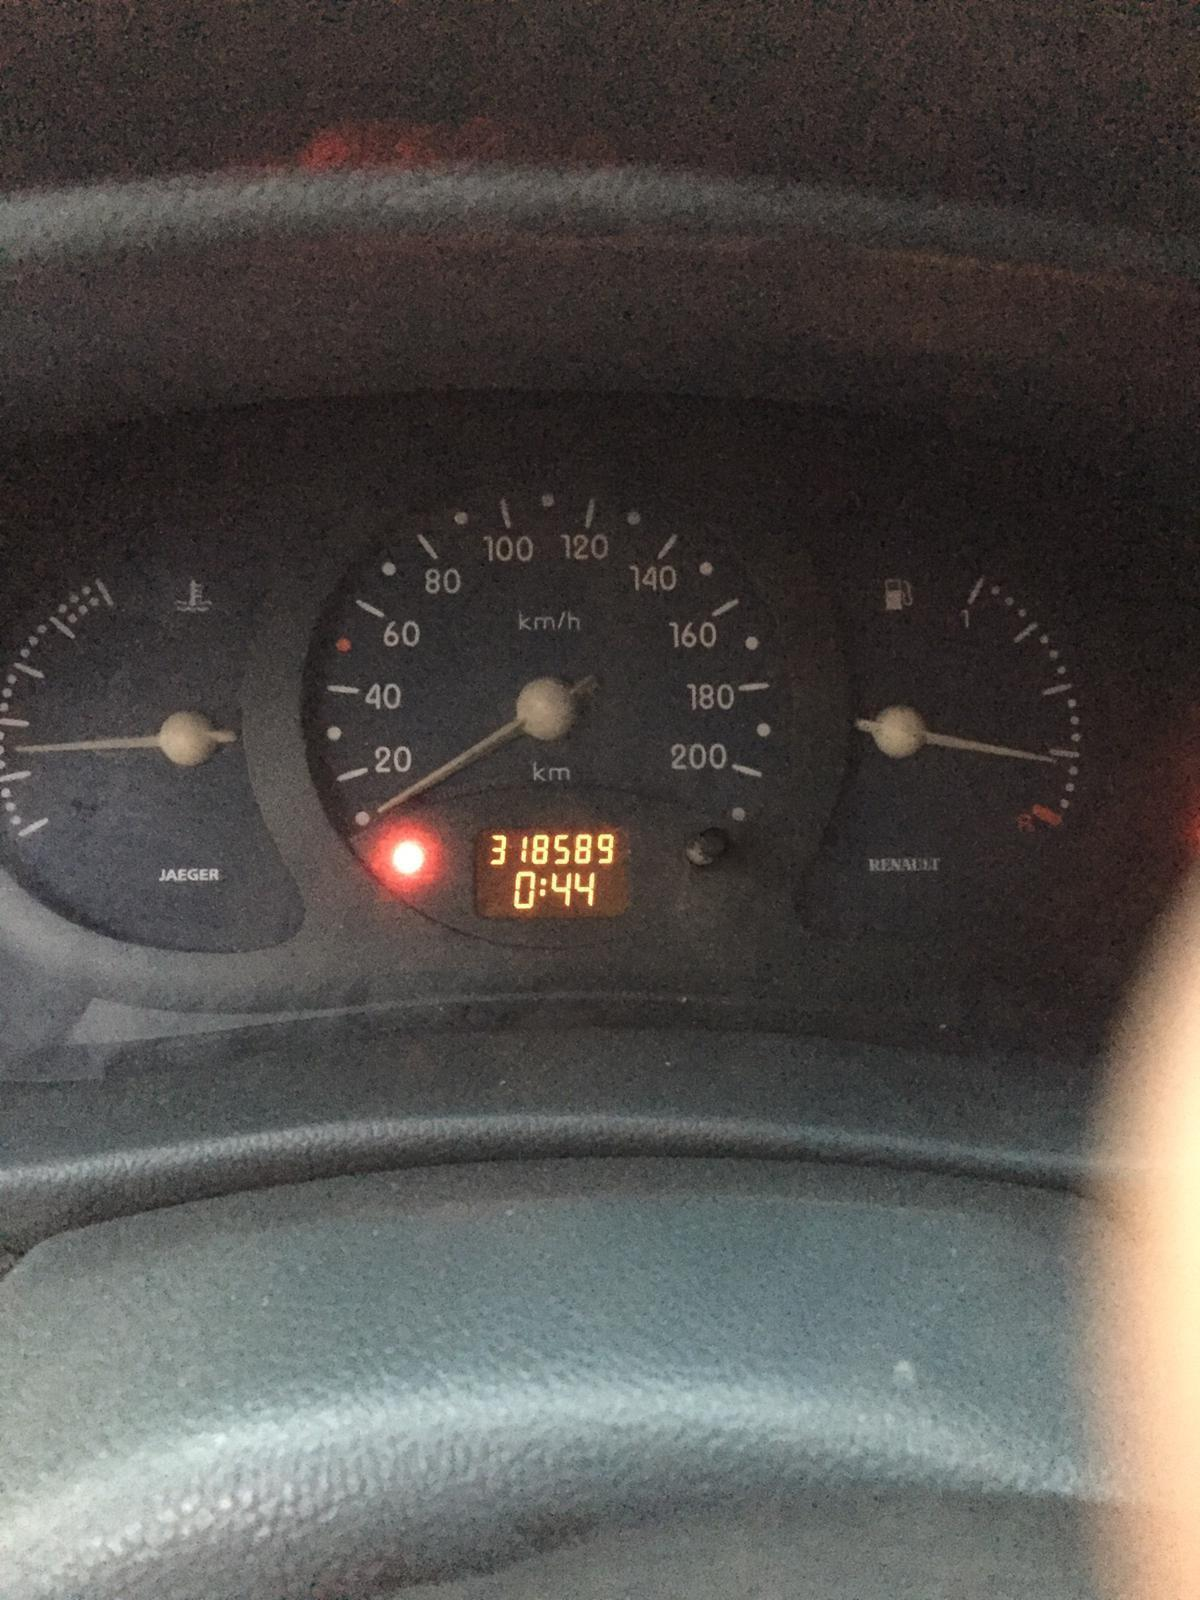0: (513, 871, 536, 910)
1: (521, 835, 528, 864)
3: (489, 834, 505, 866)
4: (550, 871, 572, 907), (574, 871, 596, 907)
5: (552, 834, 568, 864)
8: (574, 833, 592, 864), (532, 834, 550, 864)
9: (596, 833, 614, 864)
X: (539, 877, 547, 897)
odometer: (468, 821, 639, 925)
